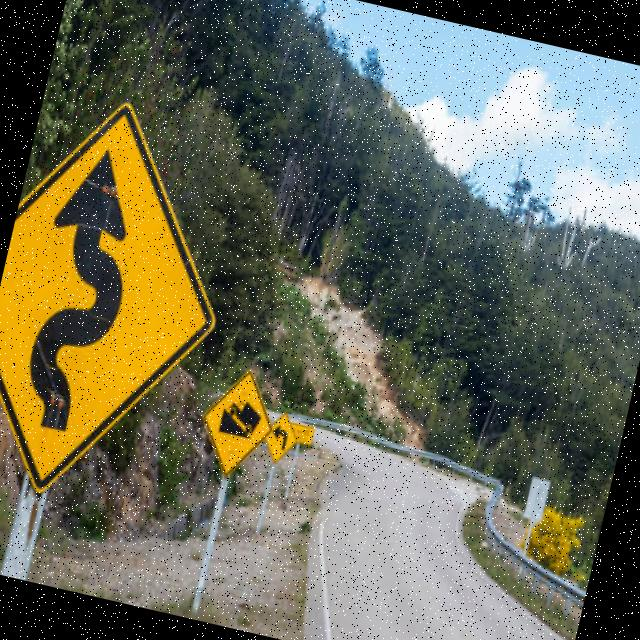left_sharp_curve: (0, 73, 262, 530)
